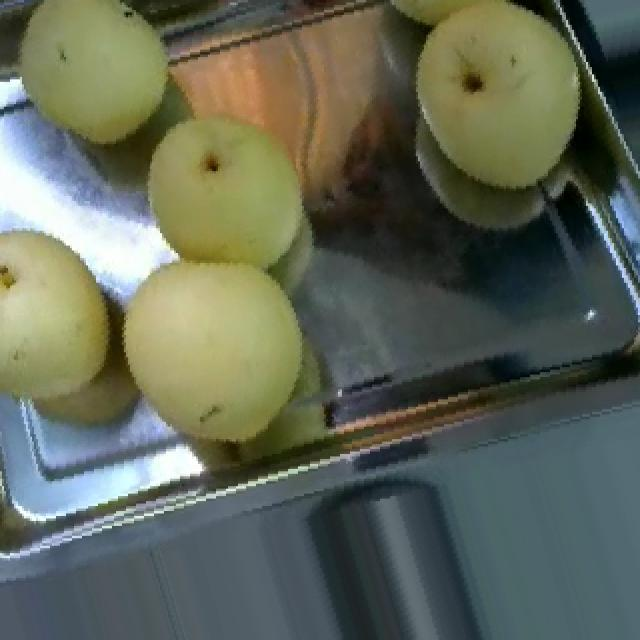Fruit: (114, 0, 380, 293), (92, 228, 338, 474), (378, 0, 594, 236), (0, 0, 194, 171), (0, 201, 134, 441)
